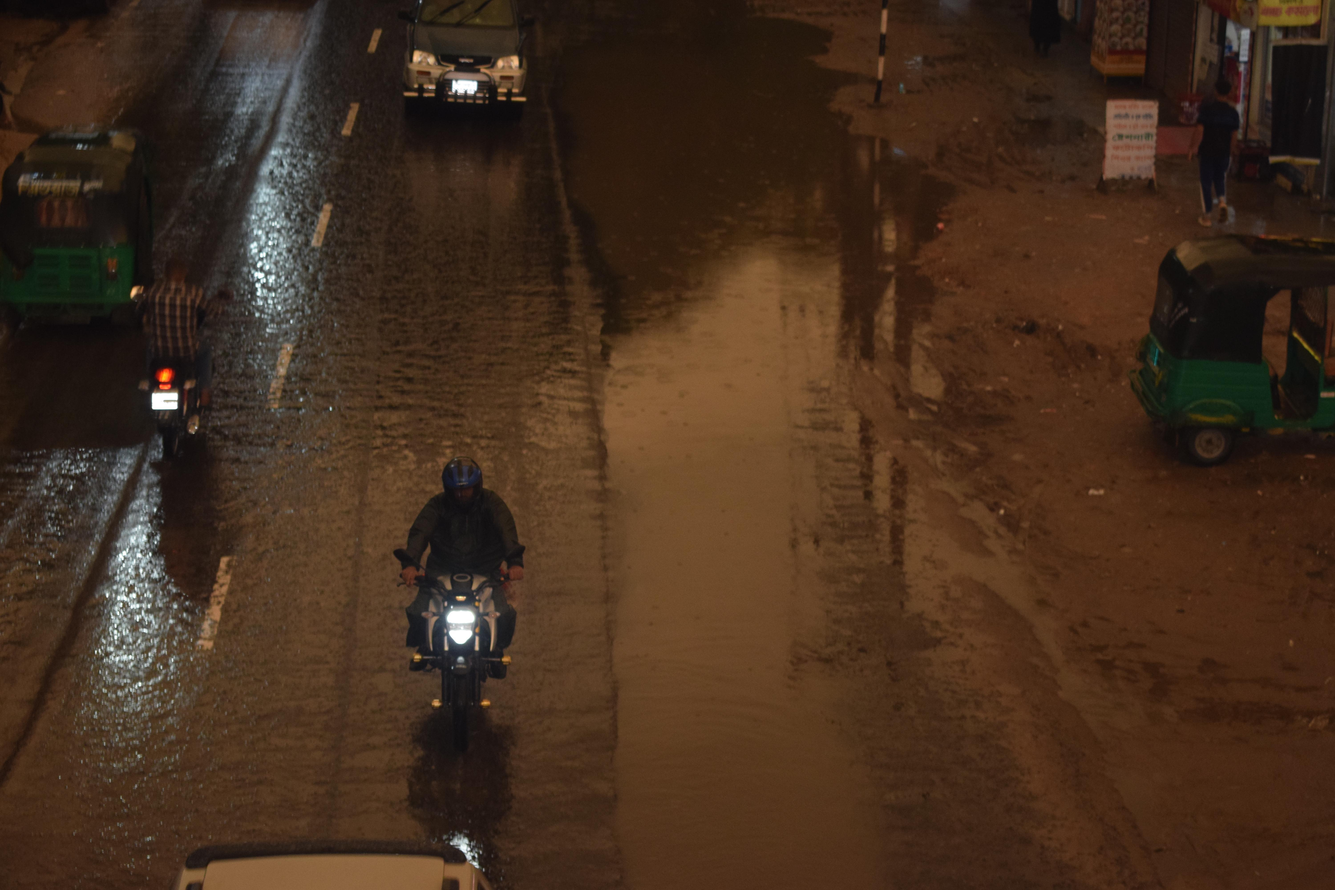Bike: (346, 405, 595, 789), (110, 214, 256, 512)
Car: (367, 0, 565, 143)
